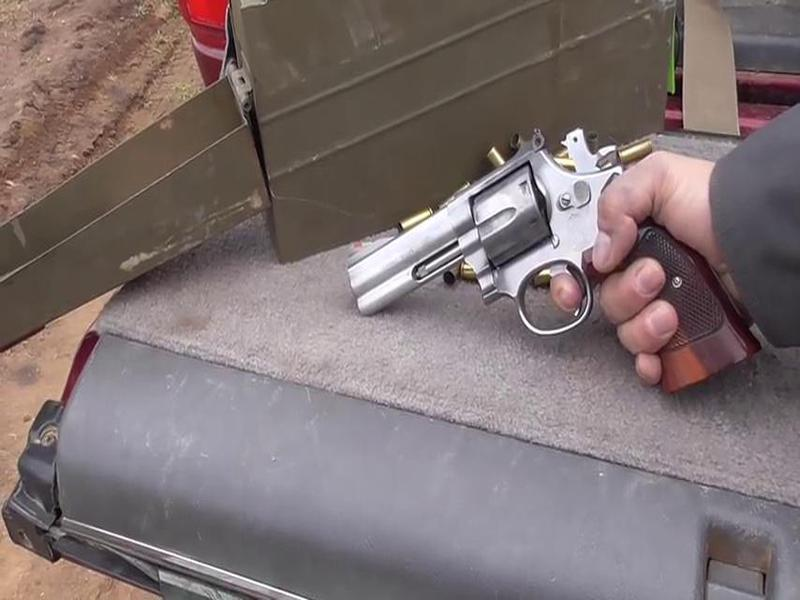Revolver: (339, 132, 659, 385)
